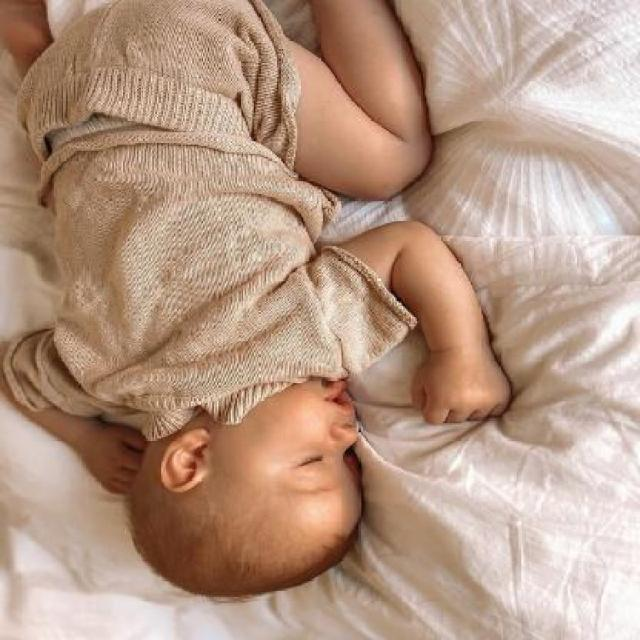baby: (0, 1, 511, 602)
